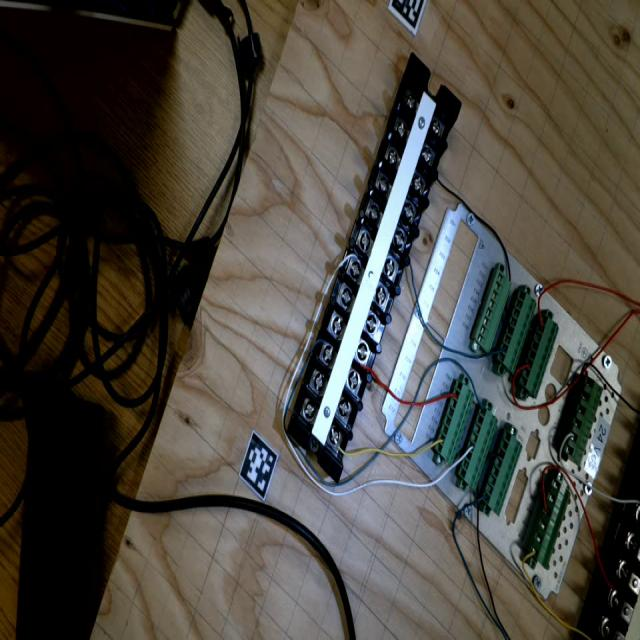Phillips_Block: (277, 53, 473, 483)
Terminal_1: (519, 472, 576, 570), (560, 375, 605, 467)
Terminal_2: (478, 428, 527, 516), (455, 403, 502, 492), (431, 378, 478, 465), (493, 289, 540, 375), (516, 312, 562, 399)
